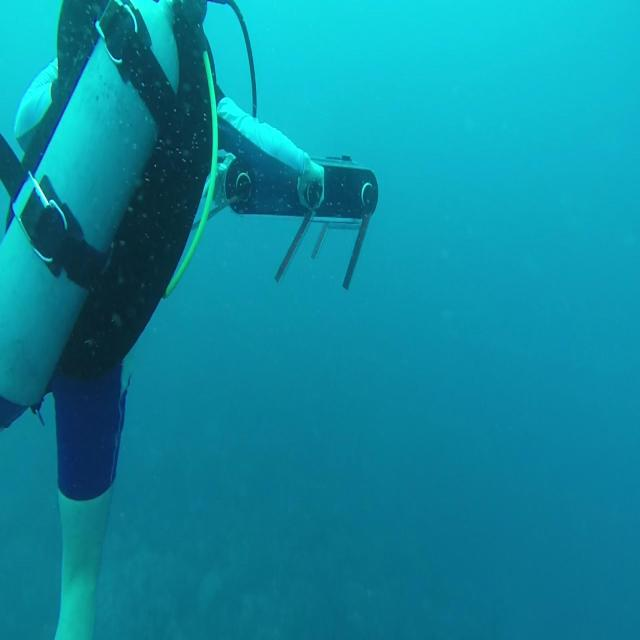human: (1, 1, 374, 636)
